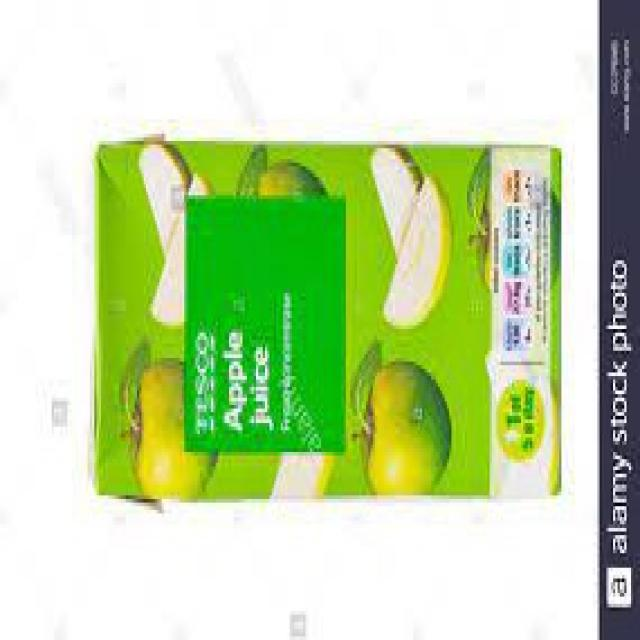non_white_jug: (88, 128, 565, 510)
